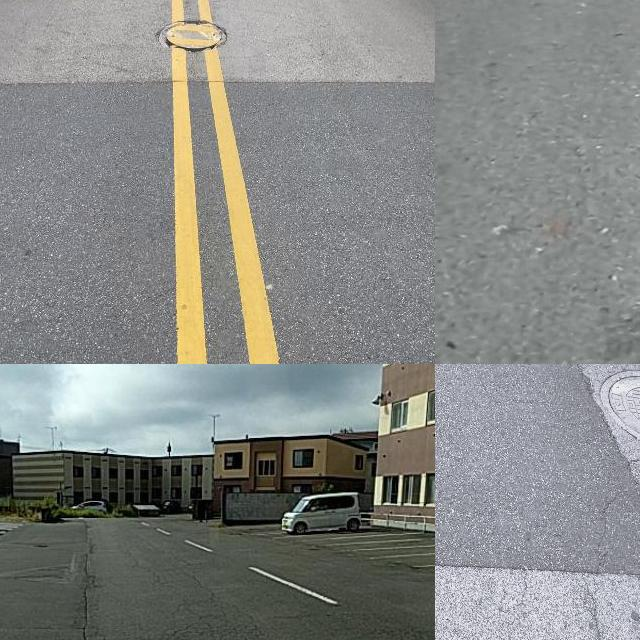Sambungan: (0, 83, 435, 364), (435, 364, 640, 572)
